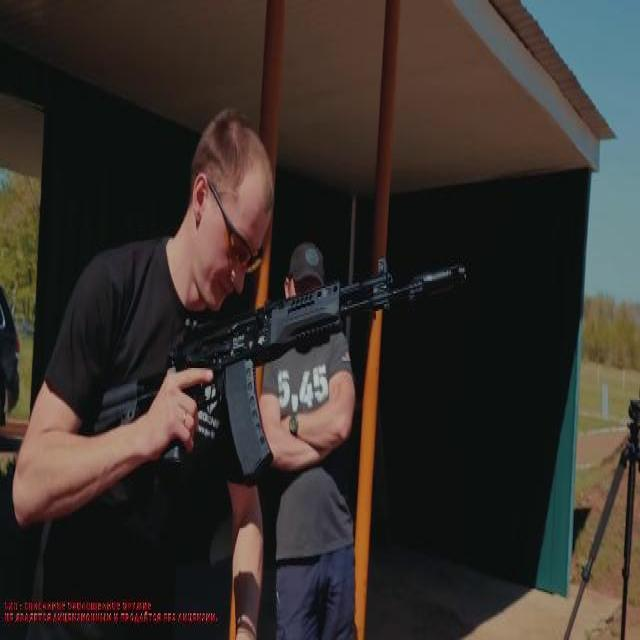pistol: (74, 261, 473, 467)
